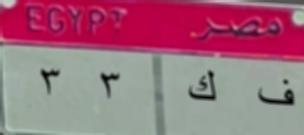3: (98, 69, 126, 103), (39, 65, 64, 98)
faa: (252, 68, 298, 112)
kaaf: (185, 66, 220, 111)
